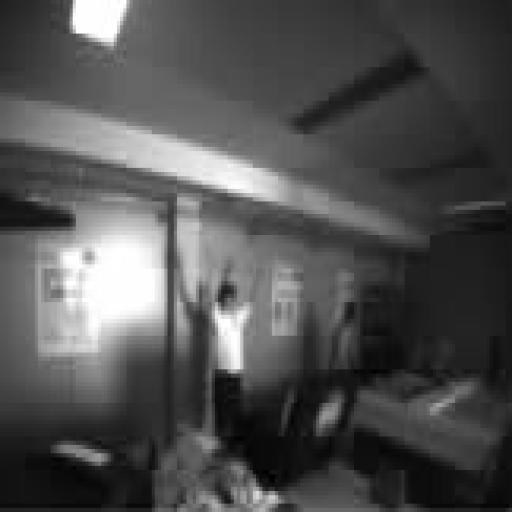human: (212, 273, 255, 444), (329, 302, 359, 372)
